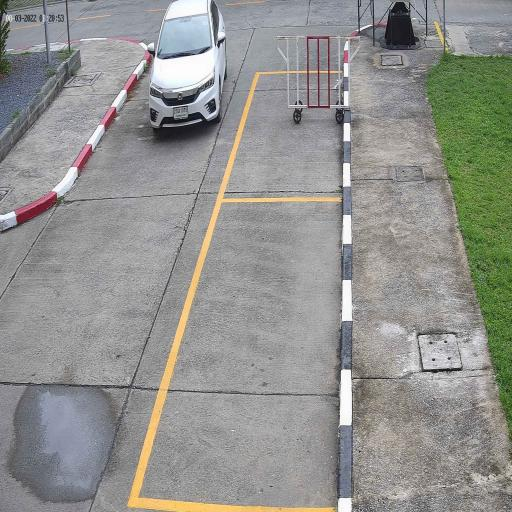car: (147, 0, 229, 132)
